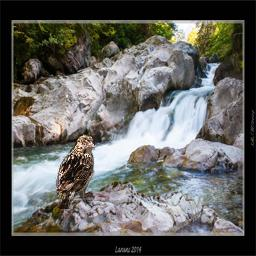Sparrow: (55, 135, 95, 210)
